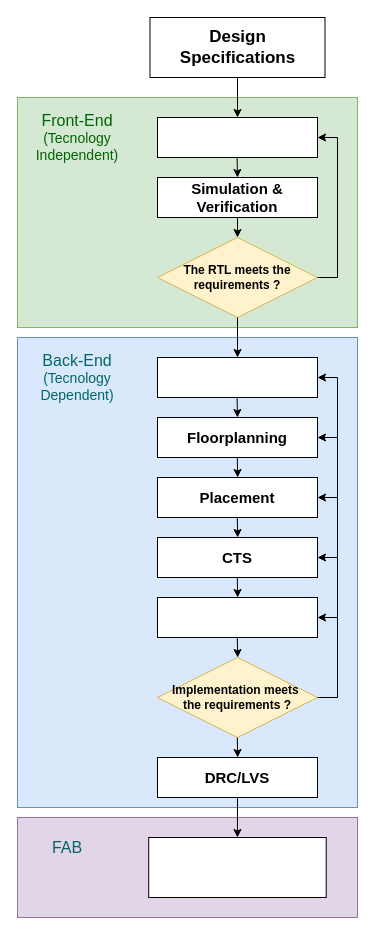
Image size: 375x935. Some labels were removed from this diagram. Here are the shapes that lost their labels. From the top down, the centre of each, then its label:
At (237,137): "RTL Design".
At (237,377): "Synthesis".
At (237,617): "Routing".
At (237,867): "Tape out GDSII".
